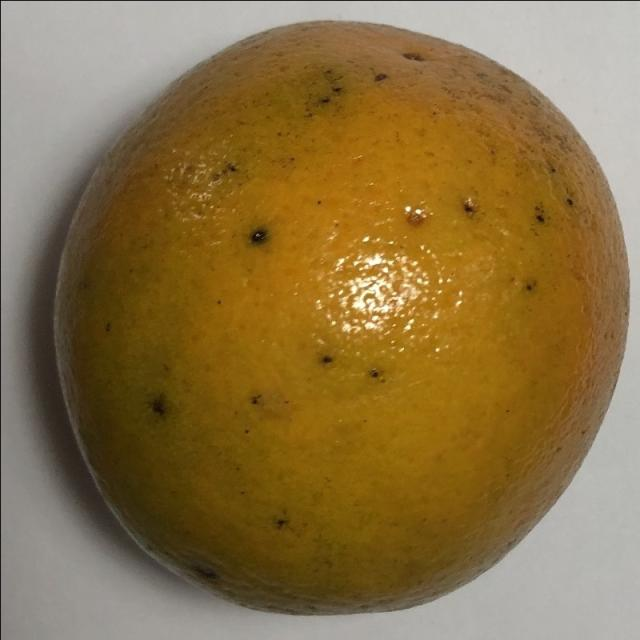black spot: (35, 14, 638, 617)
